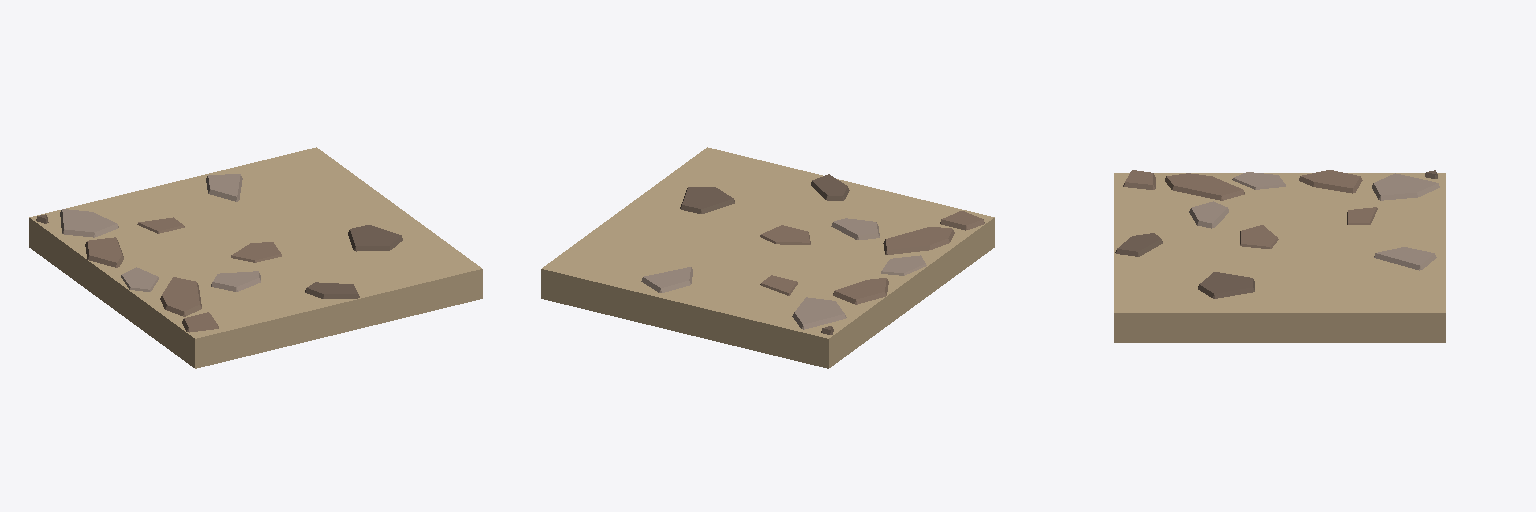
The model's file is Cobblestone_Dirt_Transition_4.obj.
3 views of the same model, side by side, from view 1: azimuth 30°, elevation 25°; view 2: azimuth 150°, elevation 25°; view 3: azimuth 270°, elevation 25° (orthographic).
Parts seen in each view (by area): view 1: object1; view 2: object1; view 3: object1.
Part boxes in pixels (x1,y1,x2,y2): object1: (29, 147, 482, 368); object1: (541, 147, 994, 368); object1: (1114, 170, 1445, 342).
Bounding box in the file's own units: 2 × 0.2281 × 2.